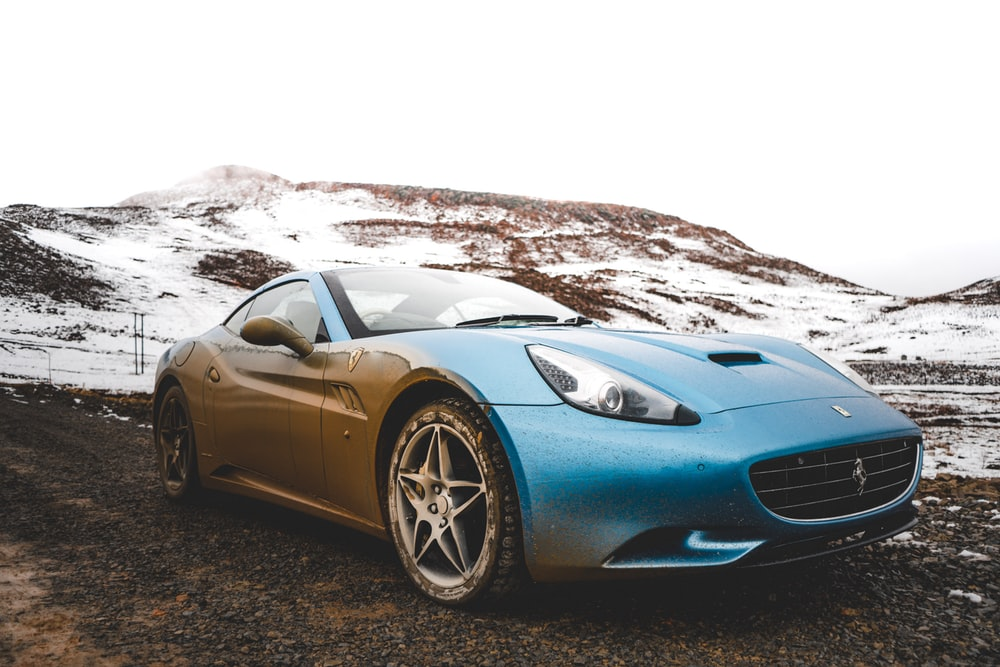car: (151, 267, 926, 617)
